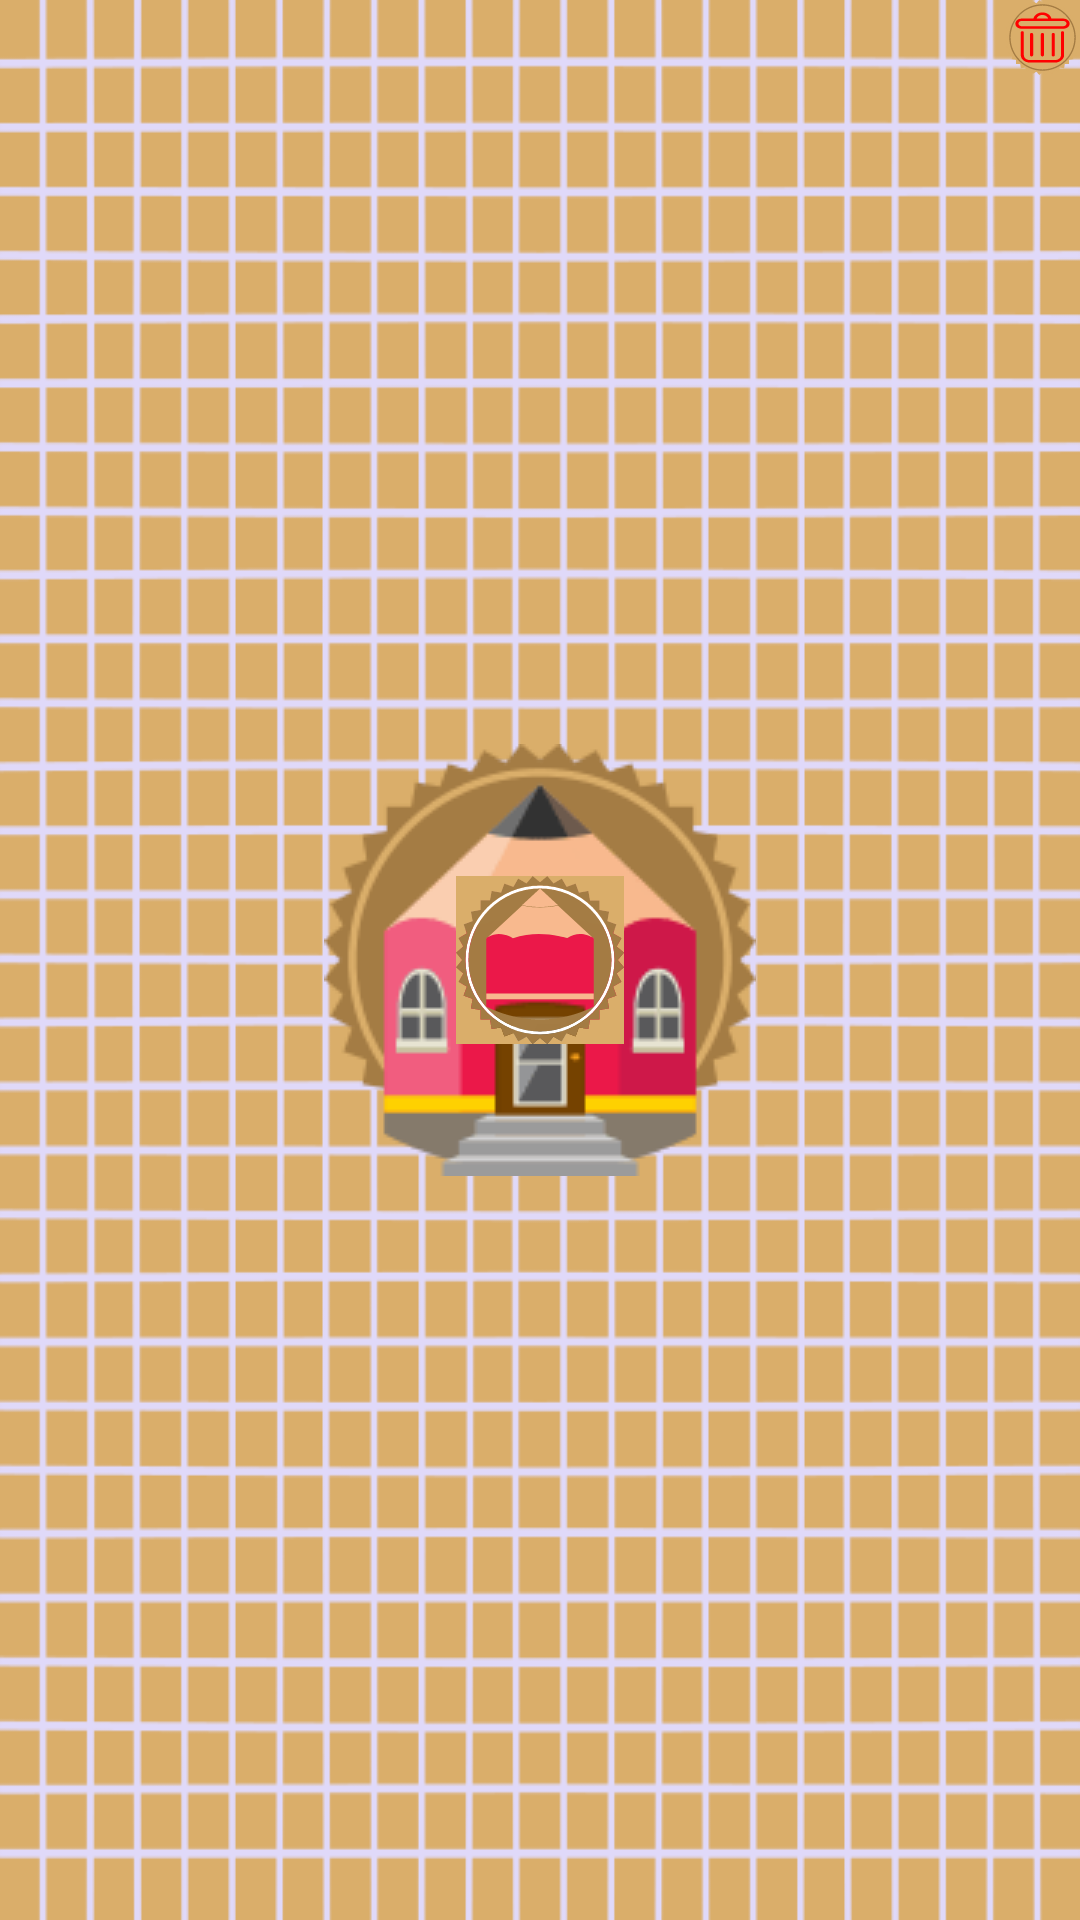

Icons on this 1080 x 1920 Android screen, each with its box as box=[x1, y1, x2, y2]:
delete: box=[1009, 0, 1080, 71]
